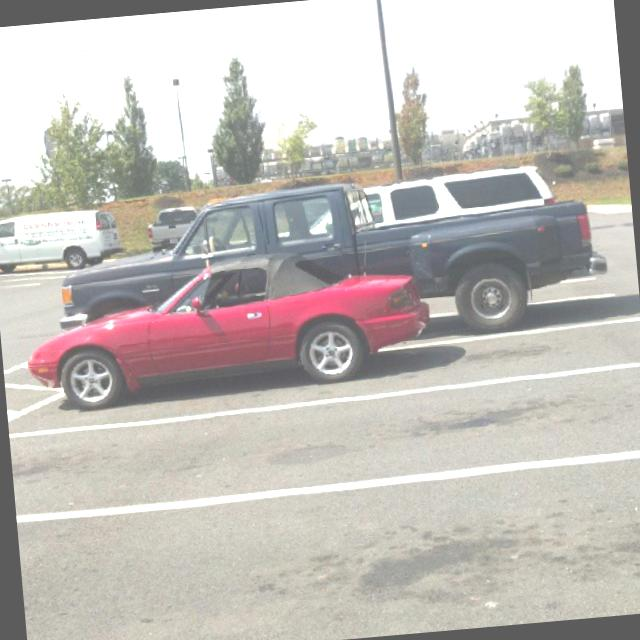Vehicle: (47, 159, 614, 370), (18, 242, 440, 412), (362, 162, 558, 226), (0, 205, 124, 278), (144, 206, 200, 250)
